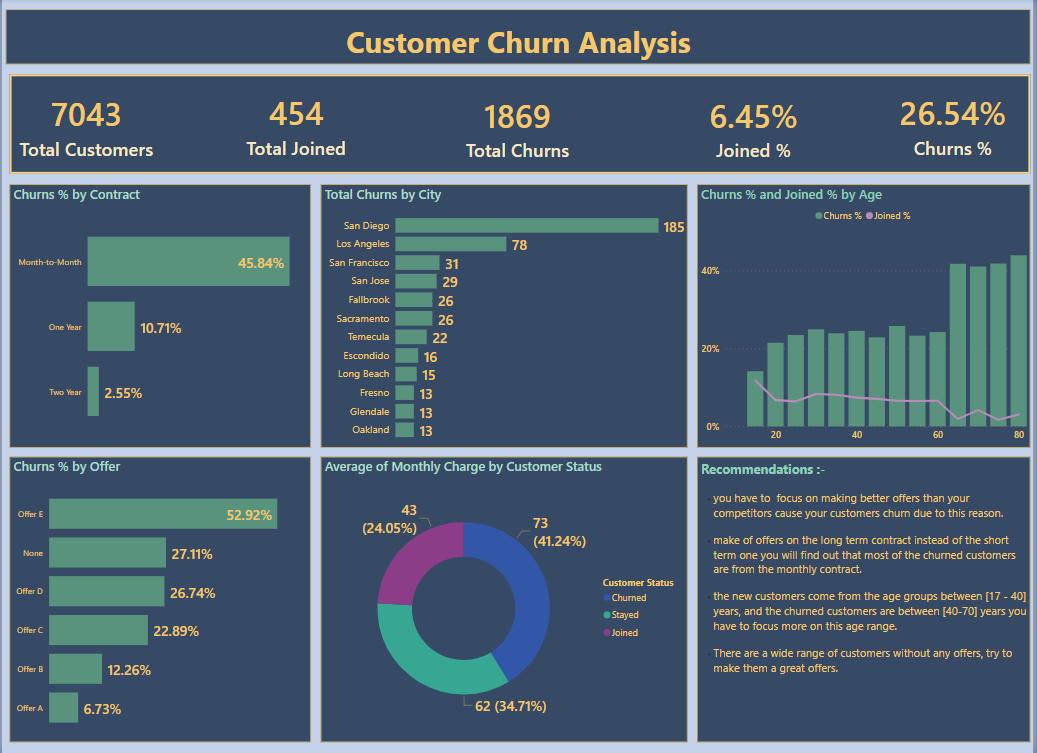

The dashboard page shown, as its layout file describes it:
{"tool":"powerbi","page":{"name":"Customer Churn Analysis","canvas":[1500,1100],"ordinal":0},"visuals":[{"type":"barChart","fields":{"Category":["telecom_customer_churn.Contract"],"Y":["Measures (2).Churns %"]},"box":[10,271.7,438.3,383.3],"z":0},{"type":"barChart","fields":{"Y":["Measures (2).Churns %"],"Category":["telecom_customer_churn.Offer"]},"box":[10,666.7,438.3,415],"z":1000},{"type":"donutChart","fields":{"Category":["telecom_customer_churn.Customer Status"],"Y":["Avg(telecom_customer_churn.Monthly Charge)"]},"box":[463.3,666.7,533.3,415],"z":2000},{"type":"lineStackedColumnComboChart","title":"Churns % and Joined % by Age ","fields":{"Y":["Measures (2).Churns %"],"Category":["telecom_customer_churn.Age (bins)"],"Y2":["Measures (2).Joined %"]},"box":[1010,271.7,485,383.3],"z":3000},{"type":"textbox","box":[1010,666.7,485,415],"z":4000},{"type":"textbox","box":[5,16,1490,80],"z":5000},{"type":"shape","box":[10,111.7,1485,145],"z":6000},{"type":"card","fields":{"Values":["Measures (2).Total Customers"]},"box":[10,112,224,144],"z":7000},{"type":"card","fields":{"Values":["Measures (2).Total Joined"]},"box":[316.7,111.7,223.3,145],"z":8000},{"type":"card","fields":{"Values":["Measures (2).Total Churns"]},"box":[638.3,115,223.3,145],"z":9000},{"type":"card","fields":{"Values":["Measures (2).Joined %"]},"box":[981.7,115,223.3,145],"z":10000},{"type":"card","fields":{"Values":["Measures (2).Churns %"]},"box":[1270,110,225,145],"z":11000},{"type":"clusteredBarChart","fields":{"Y":["Measures (2).Total Churns"],"Category":["telecom_customer_churn.City"]},"box":[463.3,271.7,533.3,383.3],"z":12000}]}

Visuals, with their boxes in screenshot pixels (x1, y1, x2, y2), scaled from the page's 1500x1100 canvas onto the 1037x753 screenshot:
barChart - telecom_customer_churn.Contract x Measures (2).Churns %: detection(7, 186, 310, 448)
barChart - Measures (2).Churns % x telecom_customer_churn.Offer: detection(7, 456, 310, 740)
donutChart - telecom_customer_churn.Customer Status x Avg(telecom_customer_churn.Monthly Charge): detection(320, 456, 689, 740)
"Churns % and Joined % by Age " lineStackedColumnComboChart: detection(698, 186, 1034, 448)
textbox: detection(698, 456, 1034, 740)
textbox: detection(3, 11, 1034, 66)
shape: detection(7, 76, 1034, 176)
card - Measures (2).Total Customers: detection(7, 77, 162, 175)
card - Measures (2).Total Joined: detection(219, 76, 373, 176)
card - Measures (2).Total Churns: detection(441, 79, 596, 178)
card - Measures (2).Joined %: detection(679, 79, 833, 178)
card - Measures (2).Churns %: detection(878, 75, 1034, 175)
clusteredBarChart - Measures (2).Total Churns x telecom_customer_churn.City: detection(320, 186, 689, 448)
